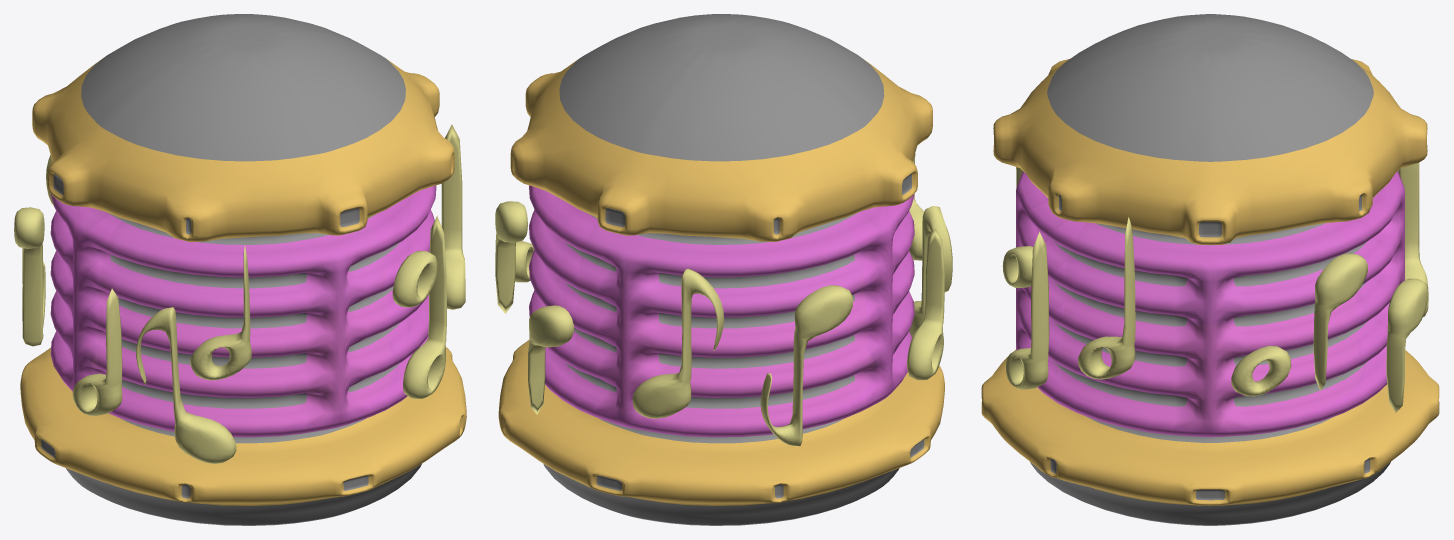
Rendered from MusicCannon.fbx.
3 renders of one model, left to right at view 1: azimuth 30°, elevation 25°; view 2: azimuth 150°, elevation 25°; view 3: azimuth 270°, elevation 25°, orthographic.
Visible parts, largest first — view 1: pCylinder3; view 2: pCylinder3; view 3: pCylinder3.
Part boxes in pixels (x1,y1,x2,y2): pCylinder3: (14,14,466,525); pCylinder3: (495,14,952,525); pCylinder3: (981,14,1439,525).
Bounding box in the file's own units: 22.11 × 21.99 × 22.11.
